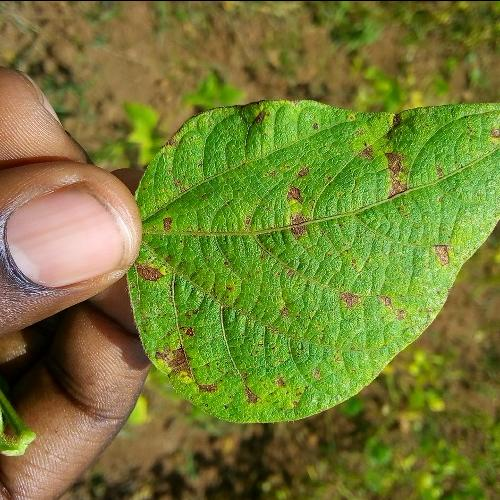hawar: (131, 204, 222, 419), (247, 134, 316, 254), (334, 110, 418, 206), (326, 267, 426, 336), (231, 357, 315, 424), (426, 232, 460, 268)
